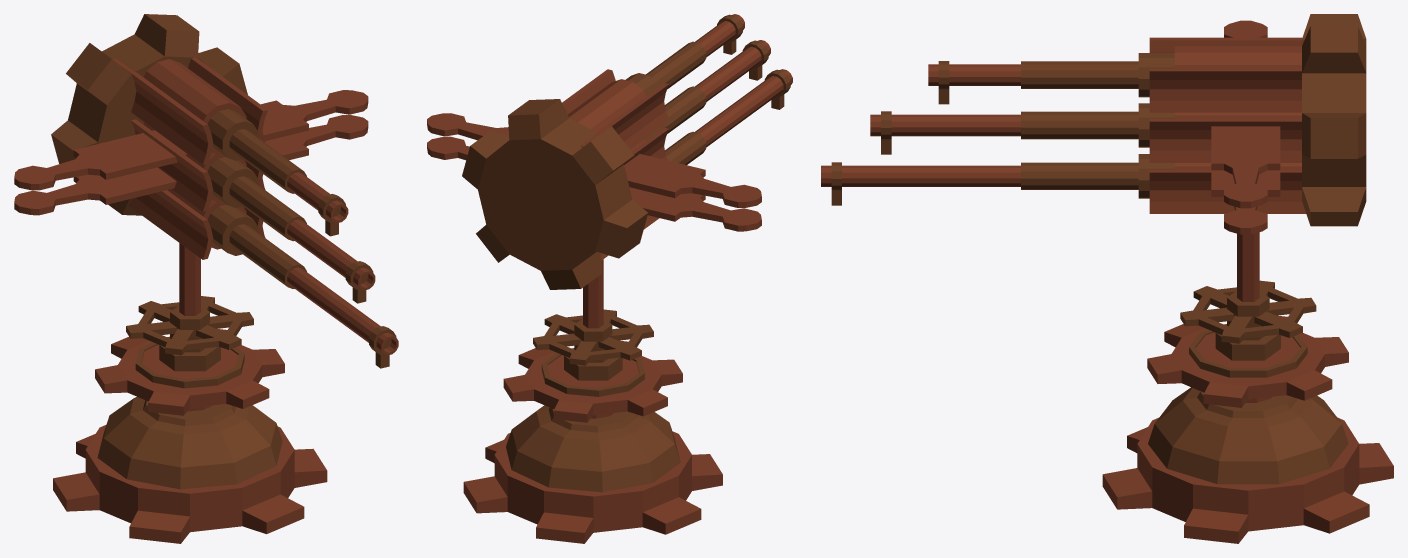
File: Gun_7.glb
3 views of the same model, side by side, from view 1: azimuth 30°, elevation 25°; view 2: azimuth 150°, elevation 25°; view 3: azimuth 270°, elevation 25° (orthographic). The views are drawn at different scales.
Parts seen in each view (by area): view 1: Gun_7_Gun, Gun_7_Base, Gun_7_Mid; view 2: Gun_7_Gun, Gun_7_Base, Gun_7_Mid; view 3: Gun_7_Gun, Gun_7_Base, Gun_7_Mid.
Boxes of the visible parts, x1,y1,x2,y2 form: Gun_7_Gun: (14, 14, 398, 368); Gun_7_Base: (53, 337, 327, 543); Gun_7_Mid: (95, 243, 284, 415); Gun_7_Gun: (427, 14, 792, 289); Gun_7_Base: (463, 353, 722, 543); Gun_7_Mid: (503, 259, 682, 422); Gun_7_Gun: (821, 14, 1366, 234); Gun_7_Base: (1102, 324, 1393, 543); Gun_7_Mid: (1147, 232, 1348, 407).
Size of the model in its own units: 2.02 by 2.41 by 2.71.
